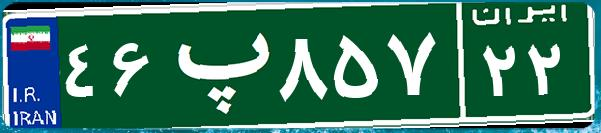2: (475, 38, 525, 113), (525, 38, 570, 115)
4: (57, 26, 110, 107)
5: (330, 28, 385, 110)
6: (110, 28, 158, 105)
7: (385, 28, 445, 110)
8: (273, 28, 330, 110)
پ: (158, 15, 273, 115)
